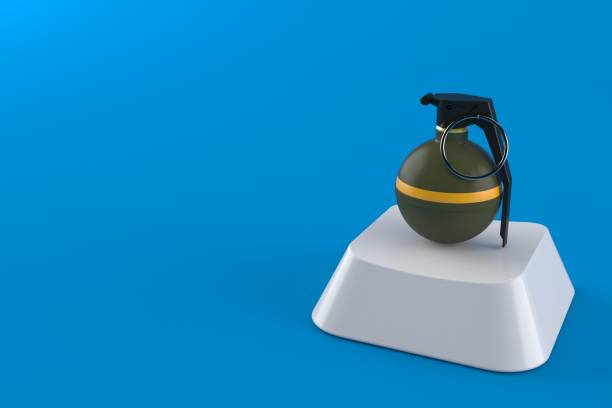e1: (392, 91, 512, 249)
